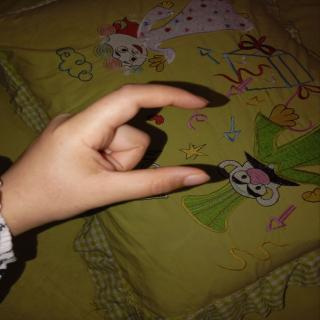DELL: (2, 81, 219, 227)
